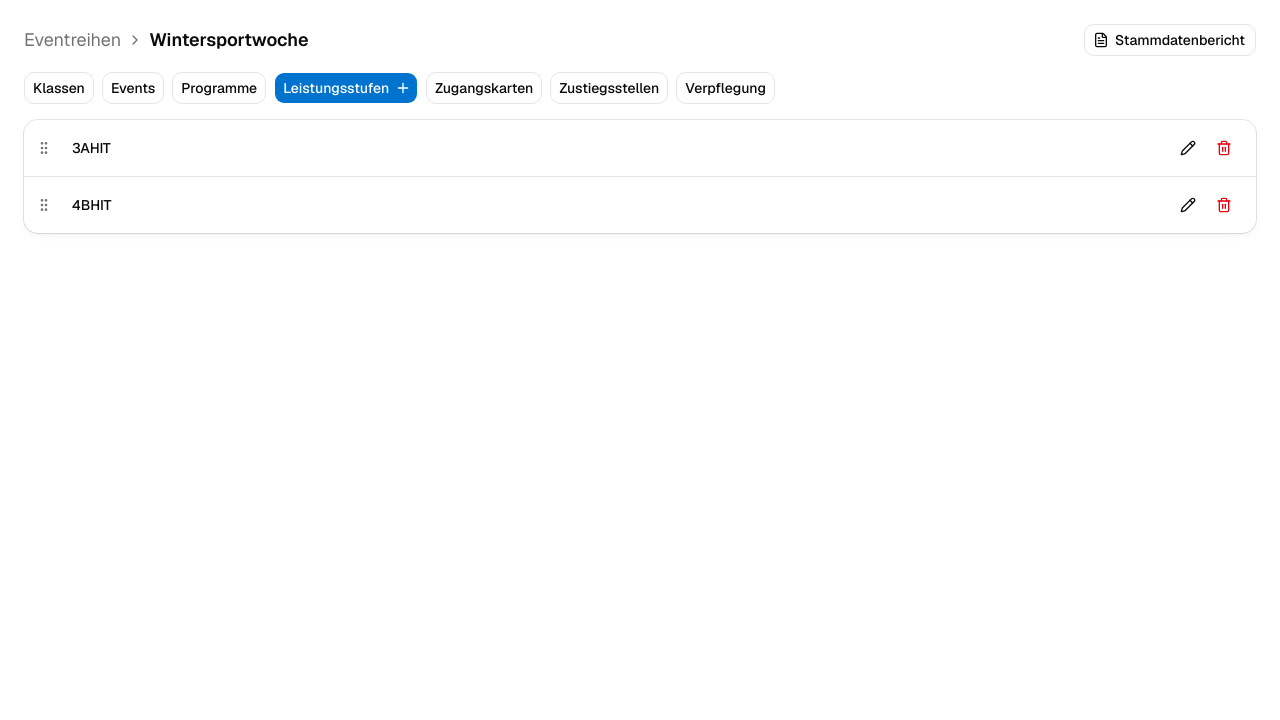
it: MasterDataView — deleting › asks before deleting, naming the item
Click the button named "Leistungsstufe 3AHIT löschen".
click(1224, 148)  # box [1208,132,1240,164]
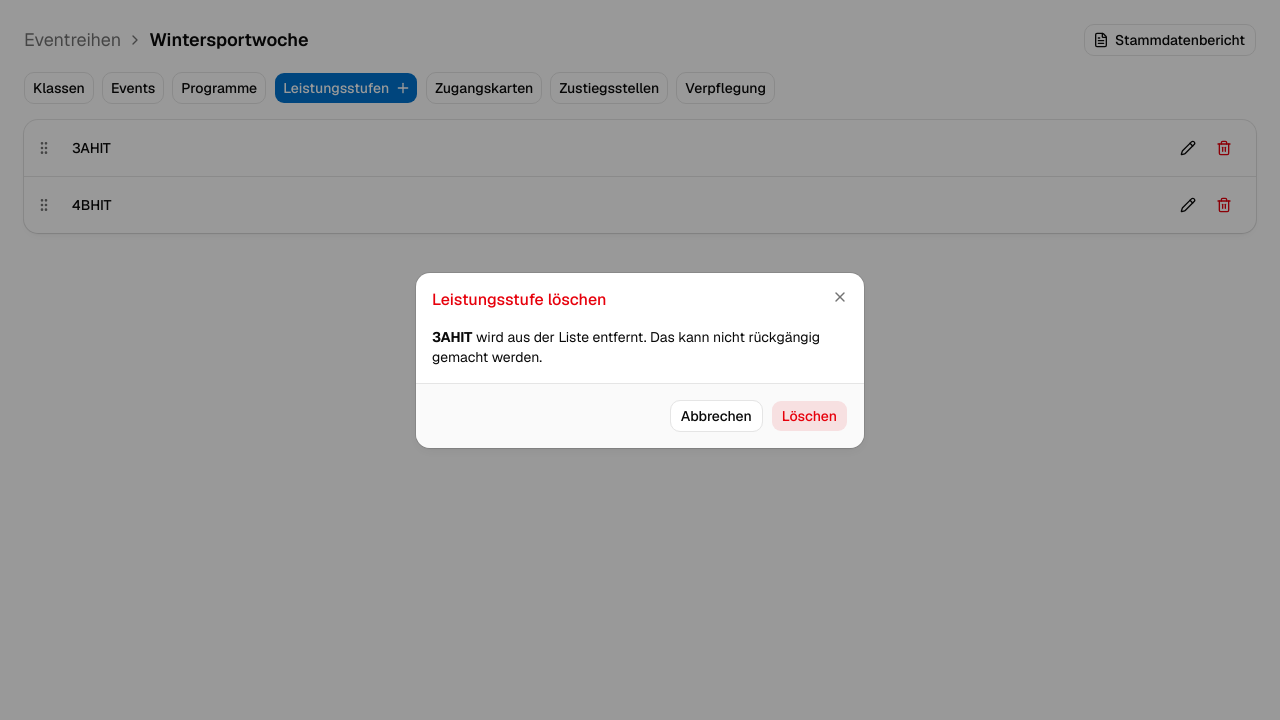
Expected: the text "3AHIT" is shown, [432,328,472,346]
